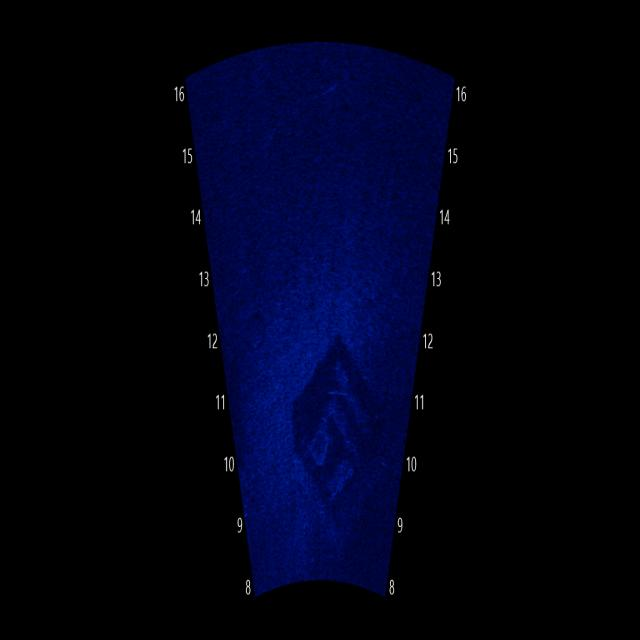square: (280, 319, 399, 558)
